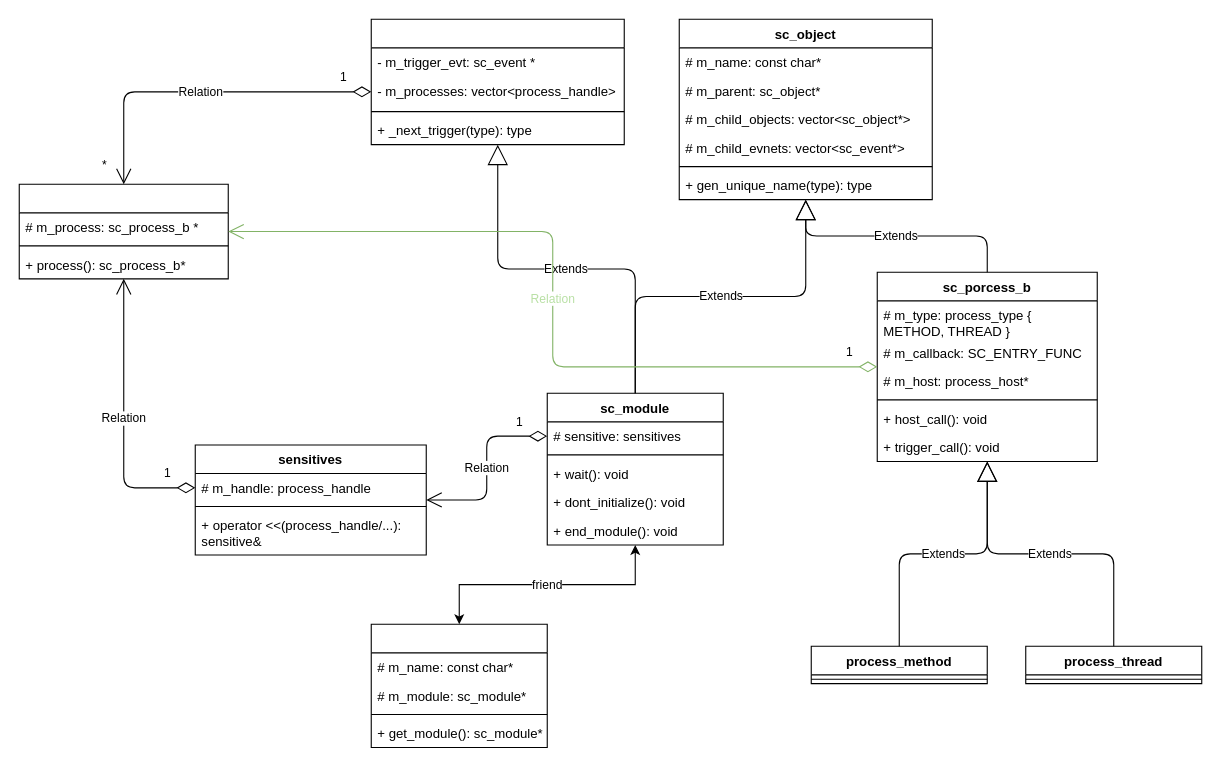
The diagram is 1221 pixels wide and 770 high, and some of its shapes have lost their labels. The box of each missing label's shape, as (x1, y1, x2, y2) in pixels:
process_handle: (18, 183, 228, 279)
process_host: (370, 18, 624, 145)
sc_module_name: (370, 623, 547, 747)
